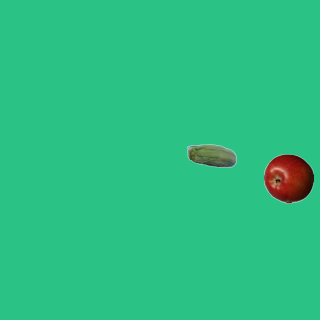Apple Braeburn: (263, 153, 313, 203)
Corn Husk: (186, 132, 236, 182)
